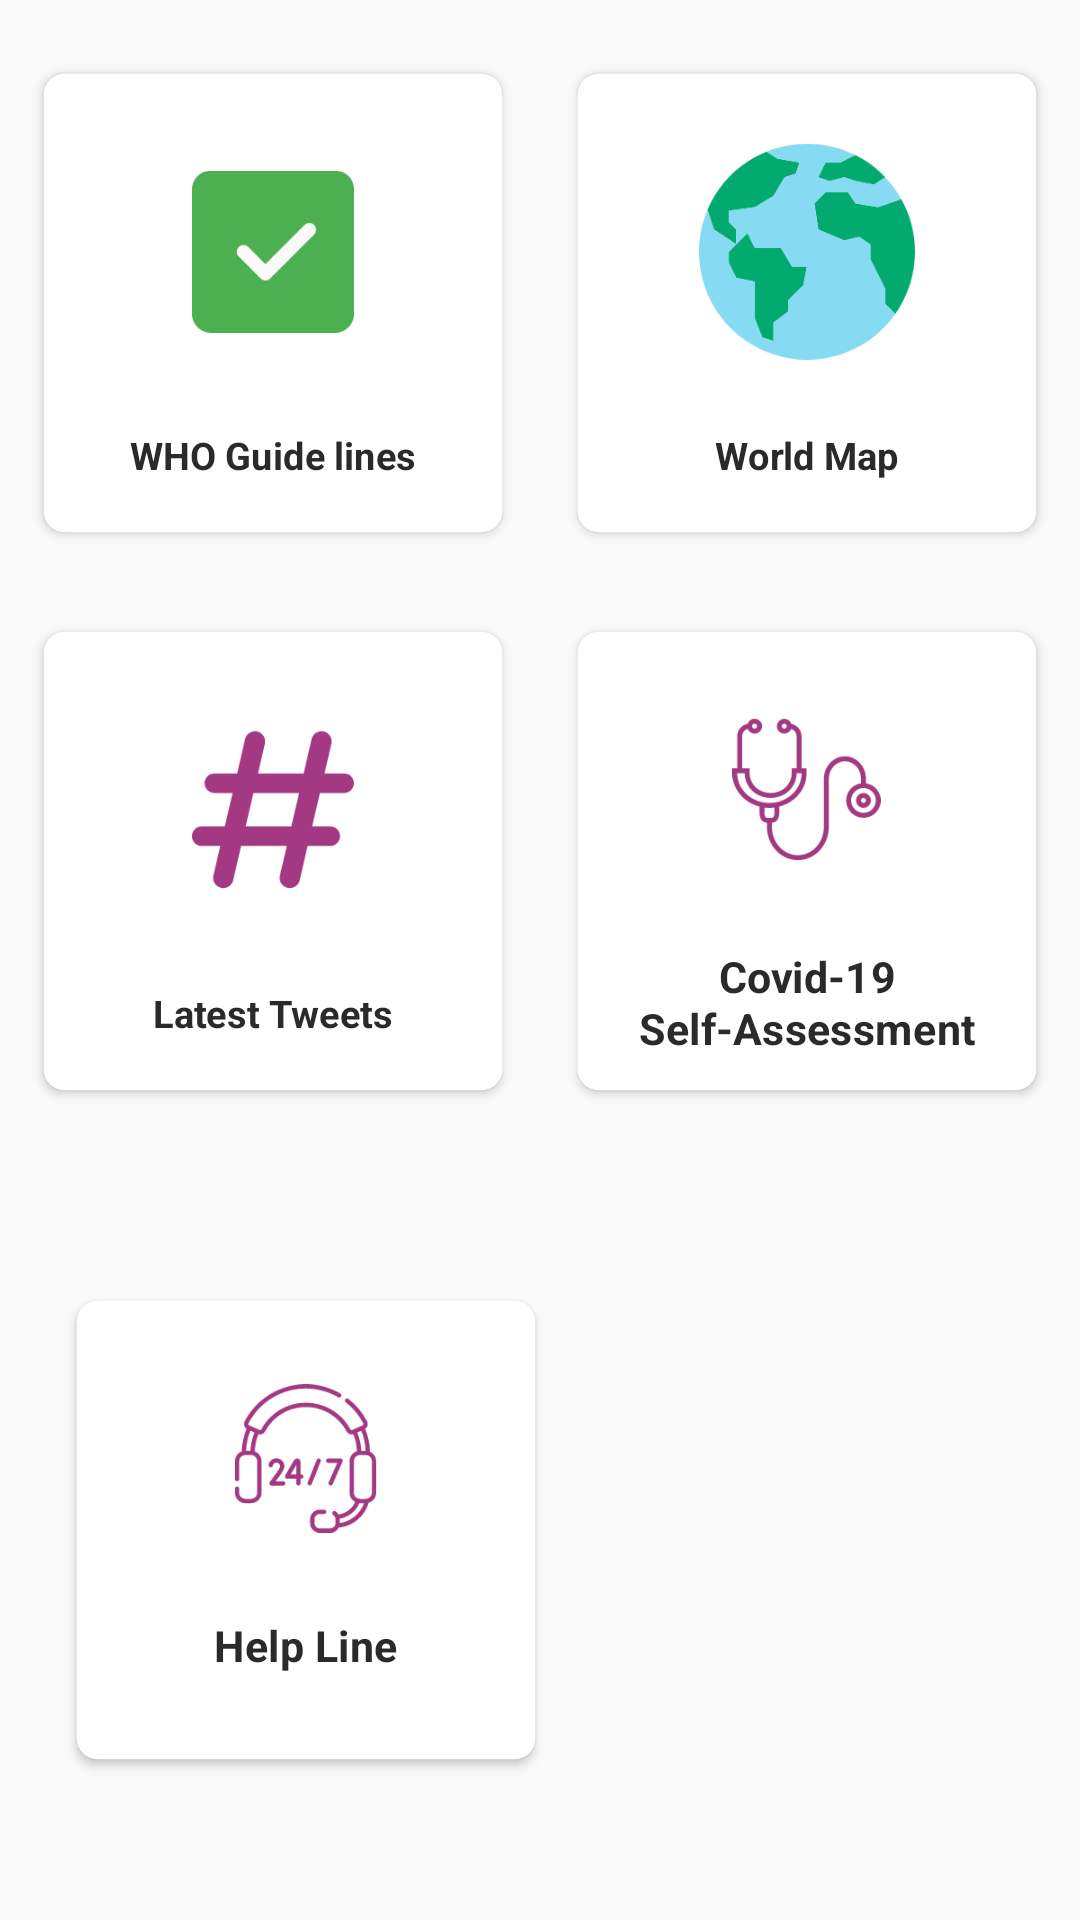

Icons on this 1080 x 1920 Android screen, each with its box as [x1,y1,x2,y2]:
correct: [192,171,354,333]
hashtag: [192,731,354,889]
